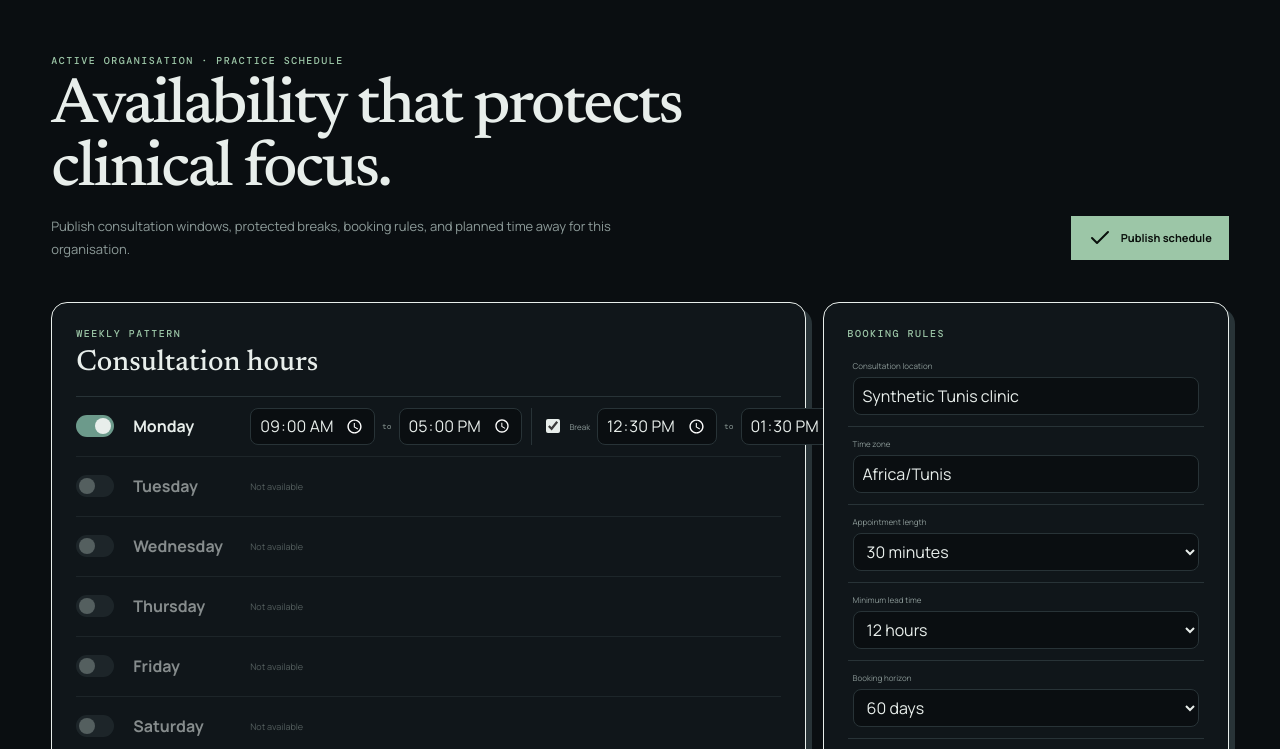
Doctor availability page › loads organisation availability and publishes an optimistic versioned update
Replace the text in the field labelled "Consultation location" with "Synthetic clinic room 2" at (1026, 396), box [853,377,1199,415]
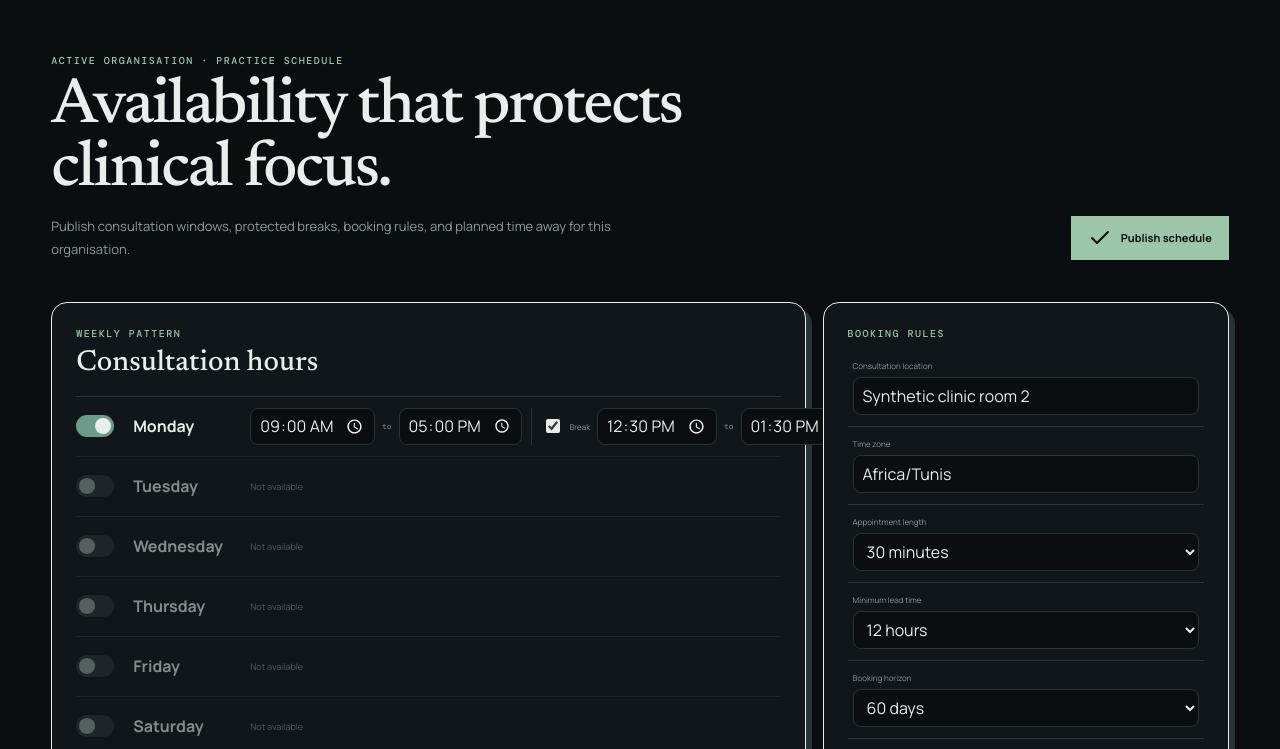
Click the button "Publish schedule" at (1150, 238), box [1071,216,1229,260]
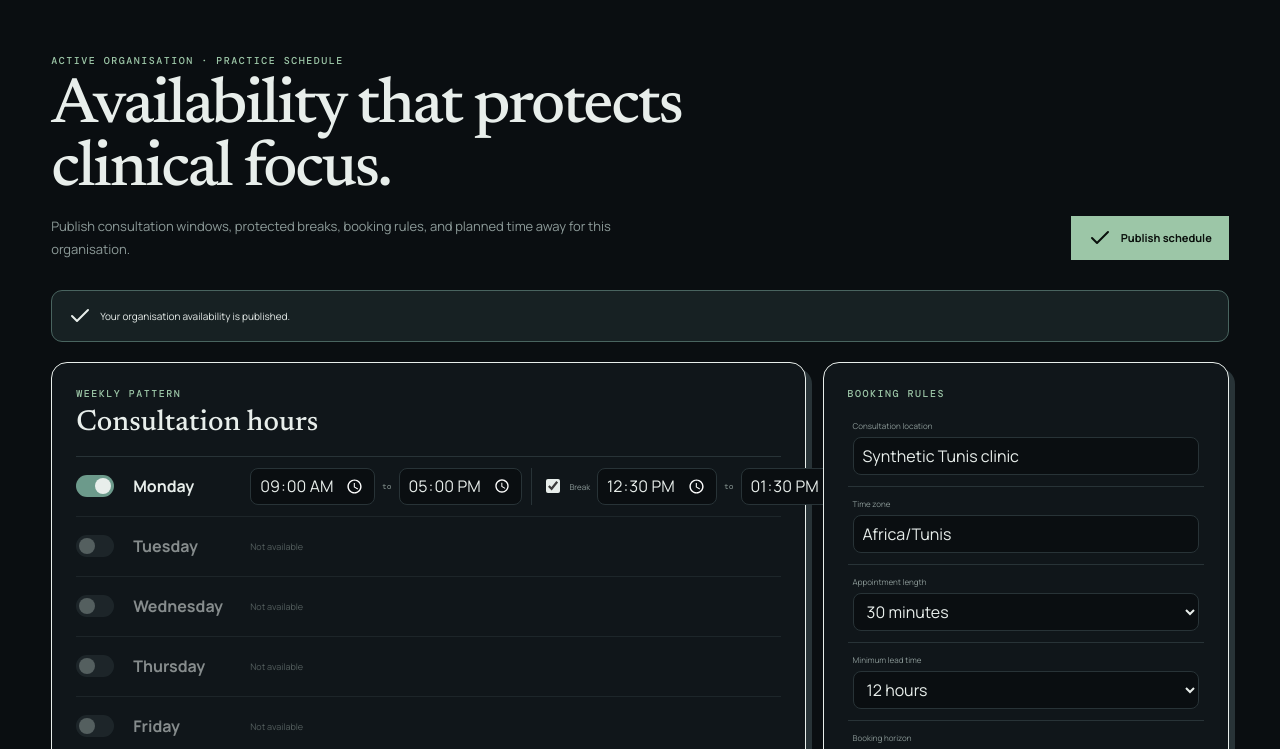
Expected: the text "Your organisation availability is published." is shown, [51,290,1229,342]
